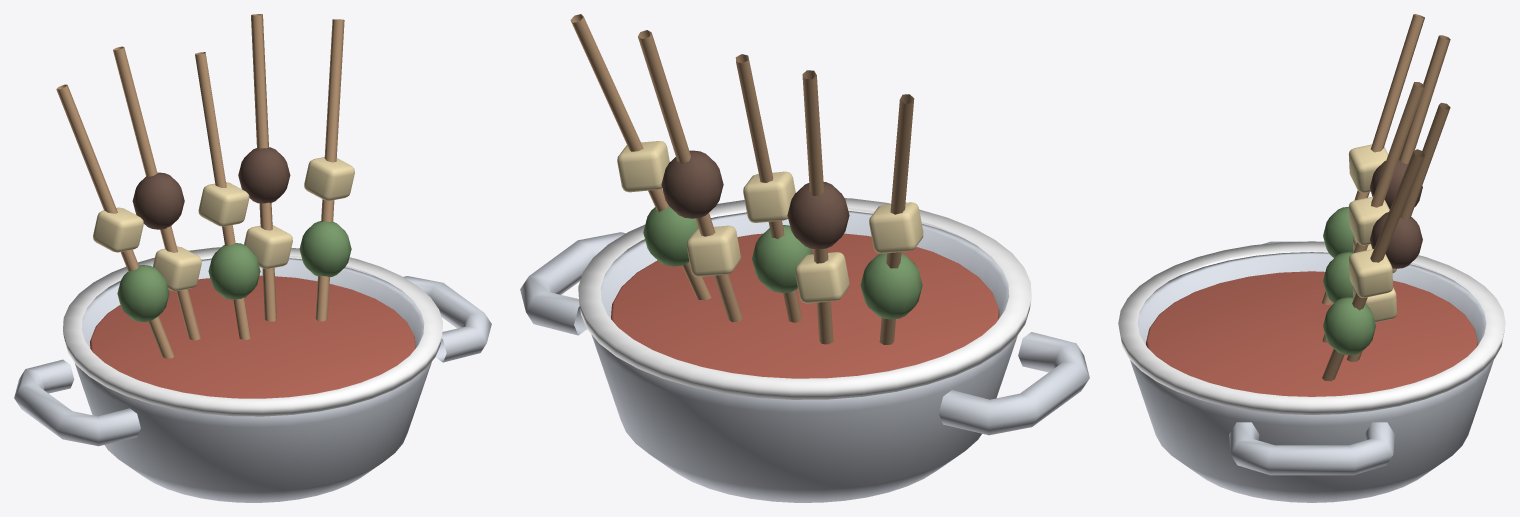
File: option-skewers.glb
The picture shows the model from 3 angles, left to right: view 1: azimuth 30°, elevation 25°; view 2: azimuth 150°, elevation 25°; view 3: azimuth 270°, elevation 25°; orthographic projection. The views are drawn at different scales.
Visible parts, largest first — view 1: Model_Skewers_Base, Model_Skewers_Tomato, Model_Skewers_Wood, Model_Skewers_Surface, Model_Skewers_Bread, Model_Skewers_Leaf, Model_Skewers_Patty; view 2: Model_Skewers_Base, Model_Skewers_Tomato, Model_Skewers_Surface, Model_Skewers_Wood, Model_Skewers_Bread, Model_Skewers_Leaf, Model_Skewers_Patty; view 3: Model_Skewers_Base, Model_Skewers_Tomato, Model_Skewers_Surface, Model_Skewers_Wood, Model_Skewers_Bread, Model_Skewers_Leaf, Model_Skewers_Patty.
Part boxes in pixels (x1,y1,x2,y2): Model_Skewers_Base: (14, 258, 491, 502); Model_Skewers_Tomato: (90, 275, 415, 398); Model_Skewers_Wood: (56, 14, 344, 358); Model_Skewers_Surface: (63, 247, 442, 416); Model_Skewers_Bread: (93, 157, 354, 291); Model_Skewers_Leaf: (117, 221, 351, 321); Model_Skewers_Patty: (132, 147, 290, 229); Model_Skewers_Base: (520, 211, 1089, 502); Model_Skewers_Tomato: (611, 233, 999, 378); Model_Skewers_Surface: (578, 198, 1031, 399); Model_Skewers_Wood: (570, 14, 914, 344); Model_Skewers_Bread: (617, 141, 923, 303); Model_Skewers_Leaf: (643, 206, 922, 319); Model_Skewers_Patty: (661, 150, 849, 249); Model_Skewers_Base: (1130, 241, 1493, 502); Model_Skewers_Tomato: (1146, 271, 1477, 396); Model_Skewers_Surface: (1118, 241, 1505, 414); Model_Skewers_Wood: (1322, 14, 1450, 381); Model_Skewers_Bread: (1348, 144, 1396, 322); Model_Skewers_Leaf: (1323, 207, 1375, 355); Model_Skewers_Patty: (1370, 160, 1422, 268).
Bounding box in the file's own units: 0.9037 × 0.738 × 0.686.
